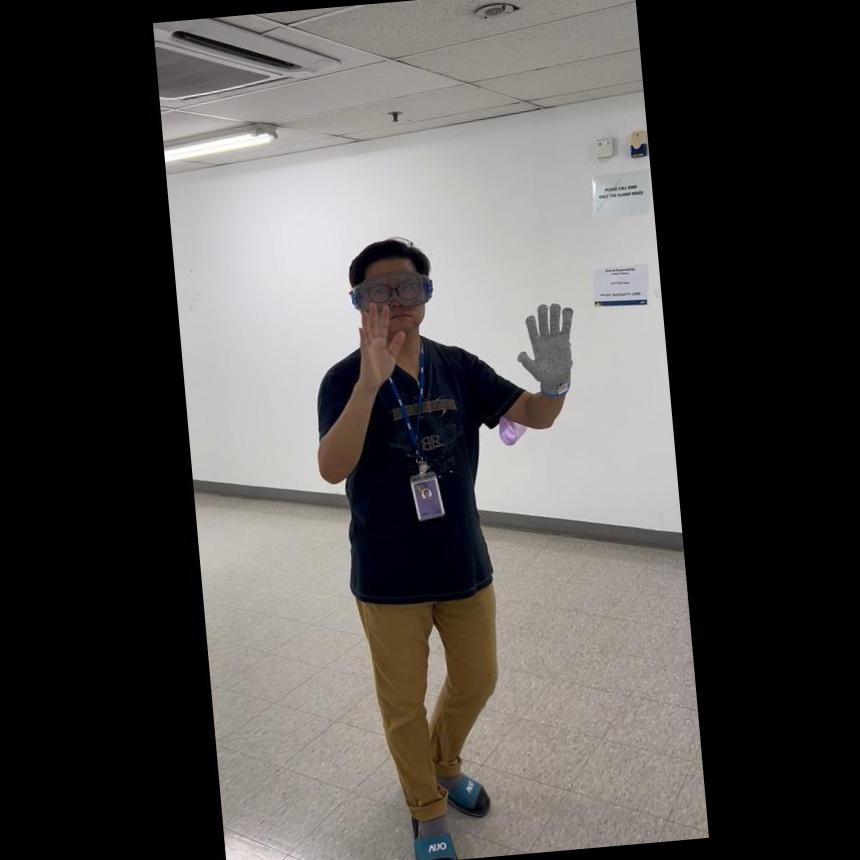Gloves: (508, 296, 580, 396)
No-gloves: (344, 298, 407, 384)
